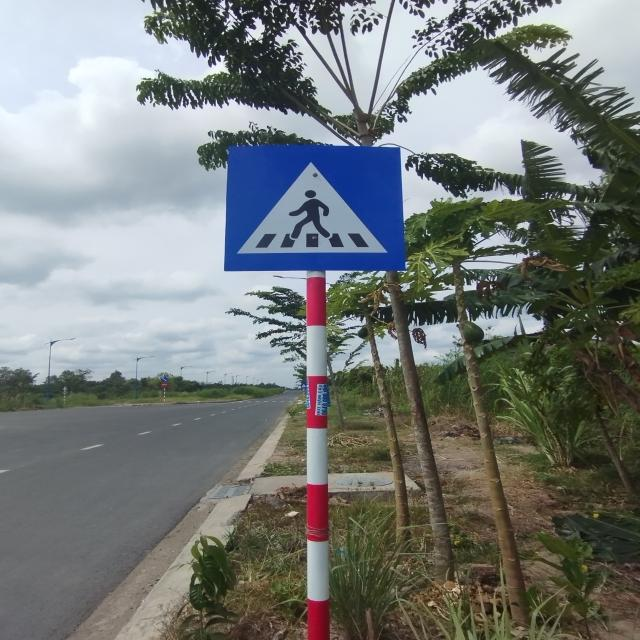Giao_Nhau_Duong_Uu_Tien: (224, 146, 406, 271)
